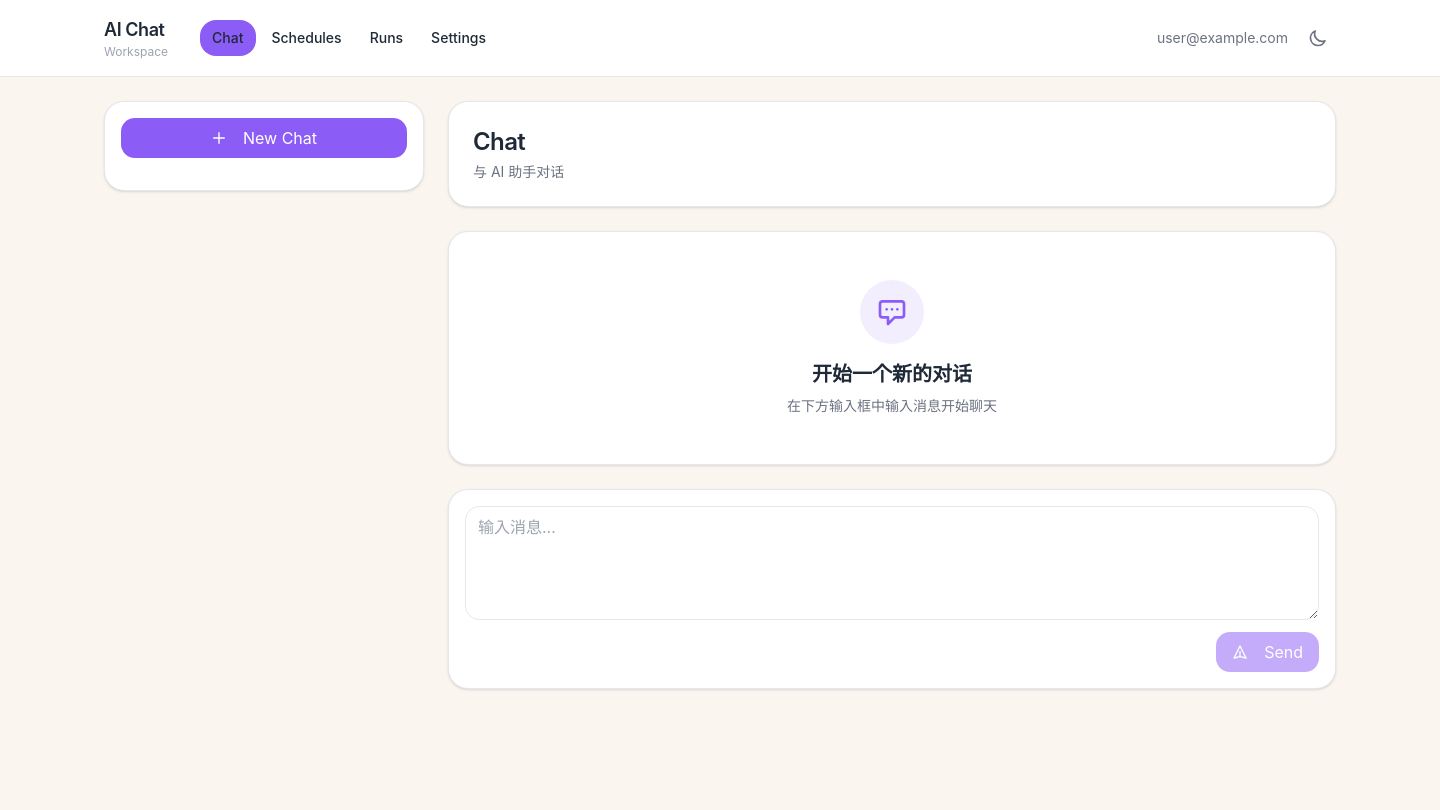
Test: ChatPage › retries the last message and recovers after a failed stream
Expected: the heading "开始一个新的对话" is shown, [812,360,972,388]
Type "Hello AI" into the text box at (892, 563), box [465,506,1319,620]
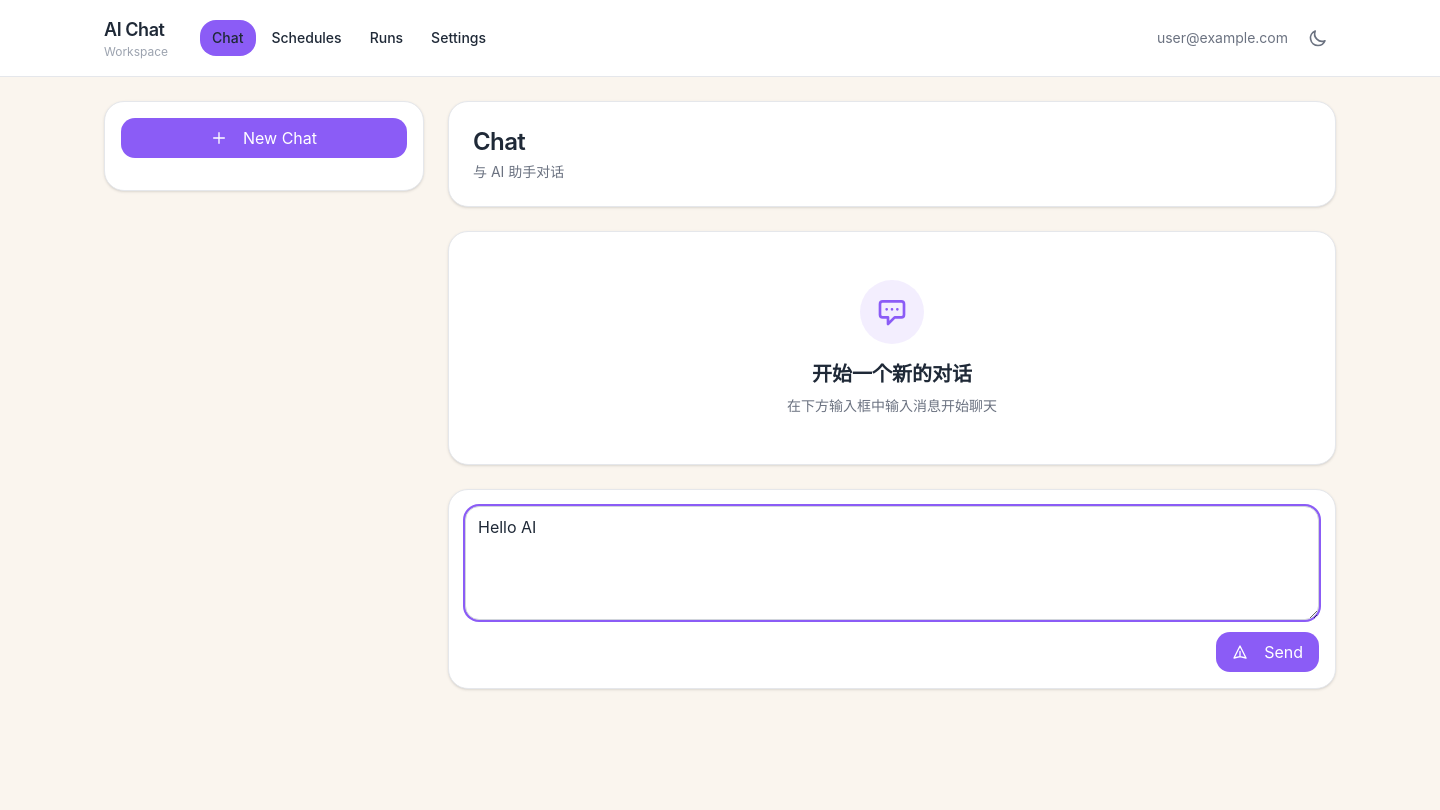
Click the button "Send" at (1268, 652), box [1216,632,1319,672]
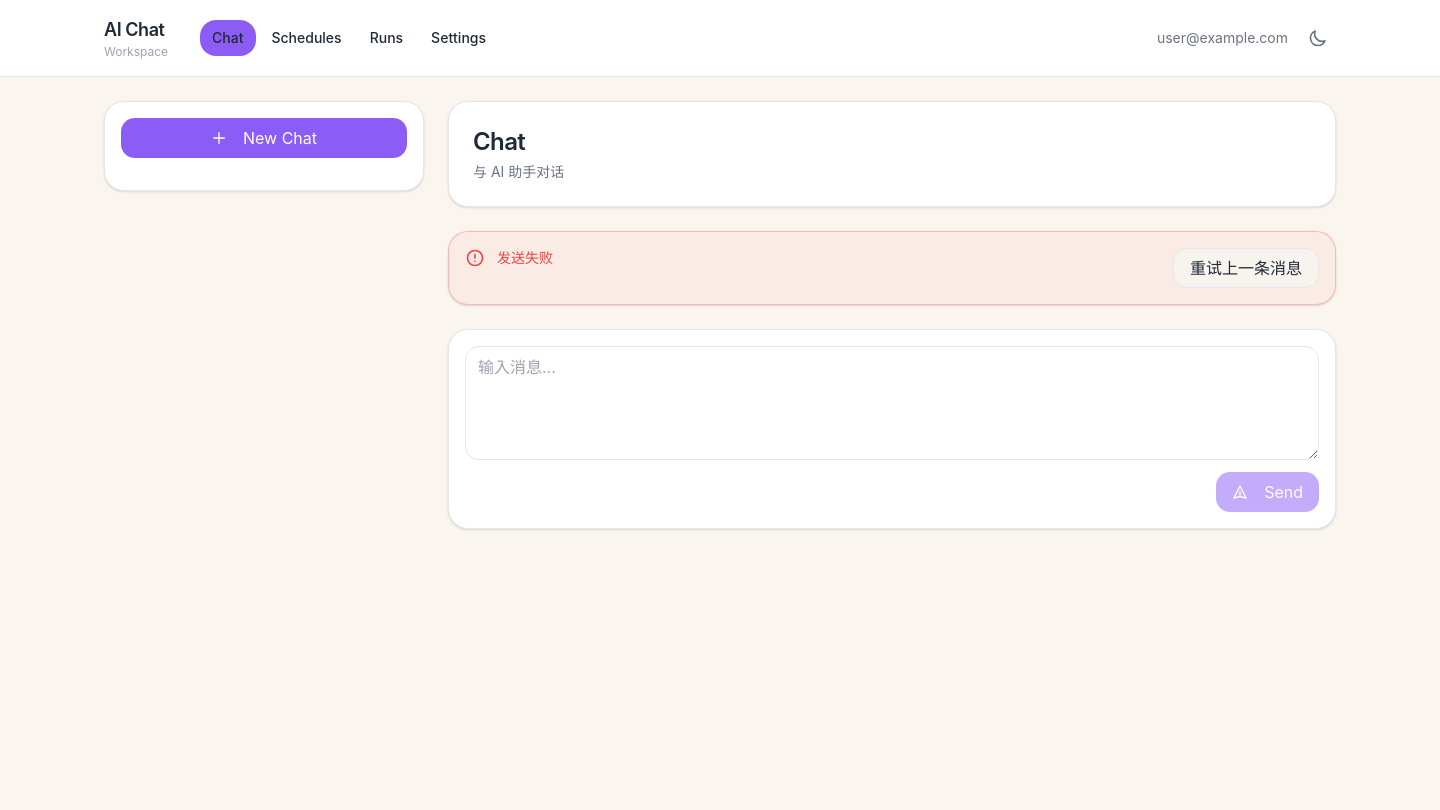
Result: the text "发送失败" is shown at [497,248,553,268]
Click the button "重试上一条消息" at (1246, 268), box [1173,248,1319,288]
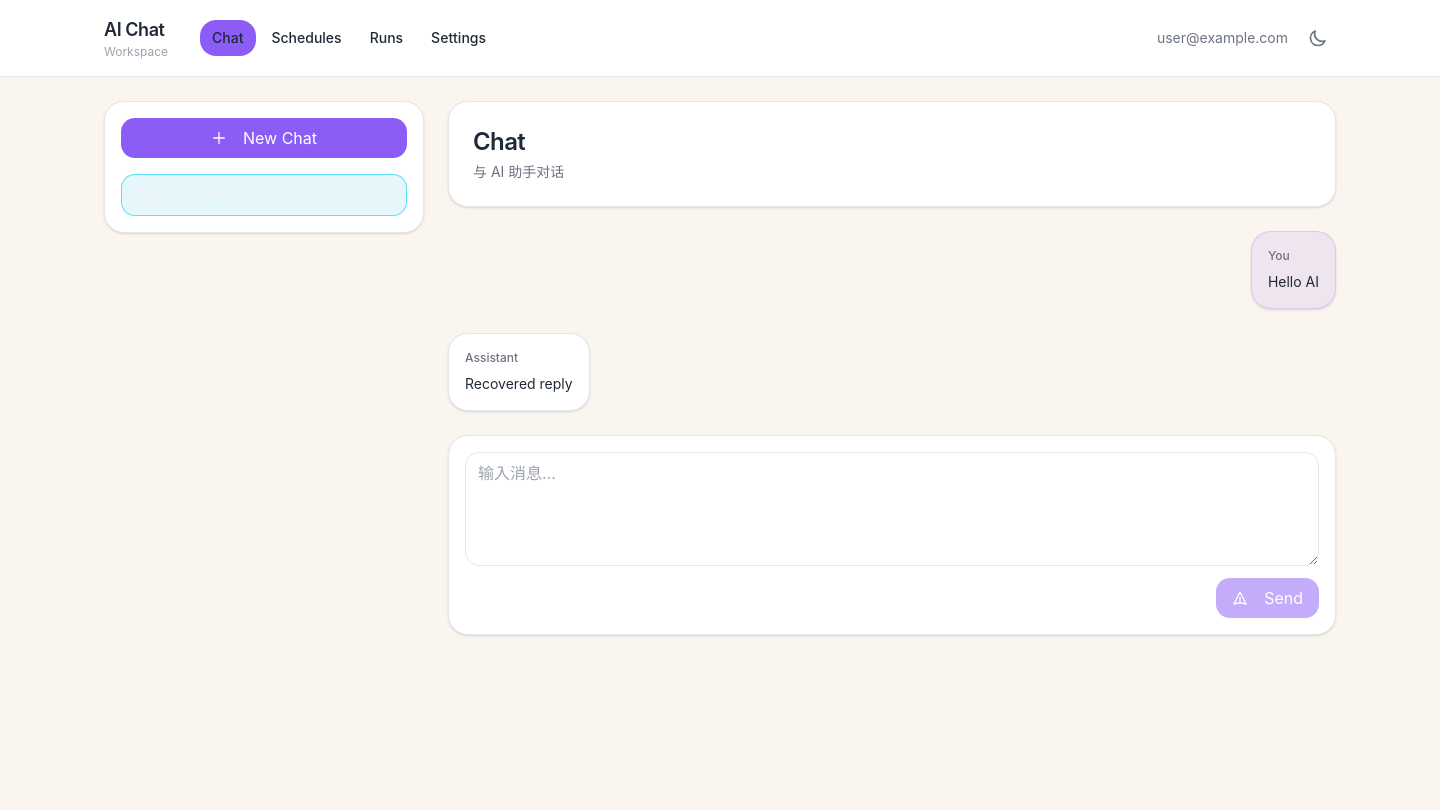
Result: the text "Recovered reply" is shown at [465,374,573,394]
Result: the text "发送失败" is gone
